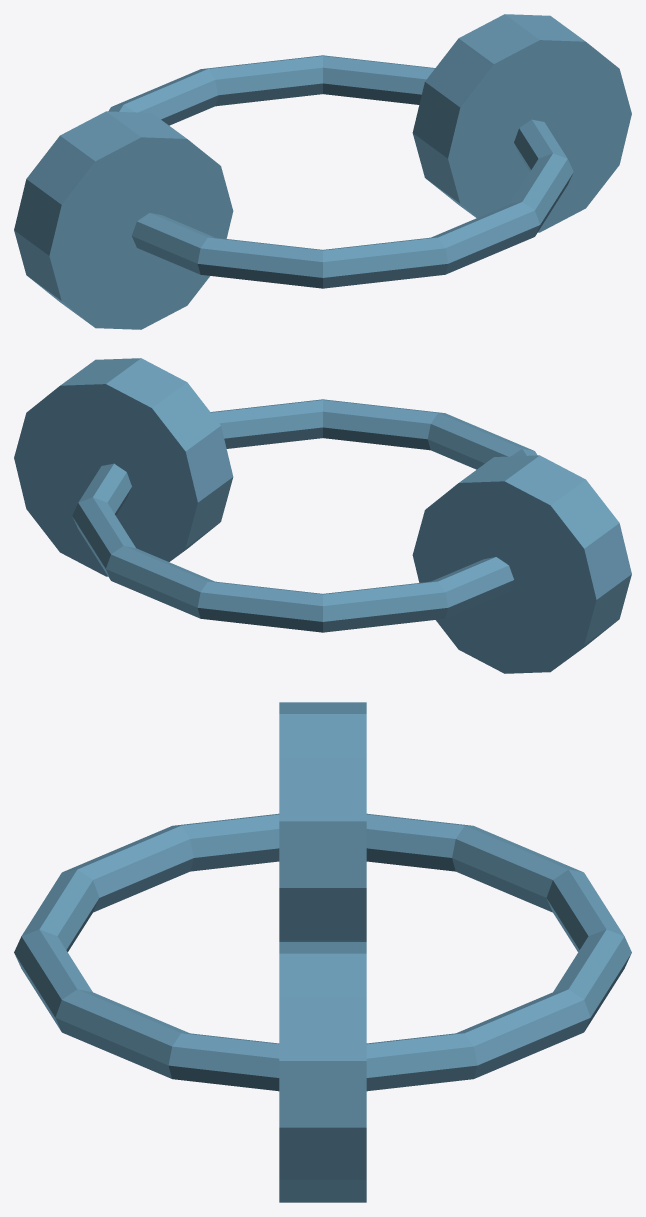
File: hearing_lod0.glb
3 views of the same model, one above another, from view 1: azimuth 30°, elevation 25°; view 2: azimuth 150°, elevation 25°; view 3: azimuth 270°, elevation 25° (orthographic). The views are drawn at different scales.
Parts seen in each view (by area): view 1: part_0, part_2, part_1; view 2: part_0, part_2, part_1; view 3: part_2, part_1, part_0.
Boxes of the visible parts, x1,y1,x2,y2 form: part_0: (14, 111, 233, 329); part_2: (108, 55, 573, 288); part_1: (412, 14, 631, 232); part_0: (412, 455, 631, 673); part_2: (72, 399, 537, 632); part_1: (14, 358, 233, 576); part_2: (14, 813, 631, 1091); part_1: (279, 942, 366, 1202); part_0: (279, 702, 366, 941).
Size of the model in its own units: 1.14 by 0.36 by 0.85.
